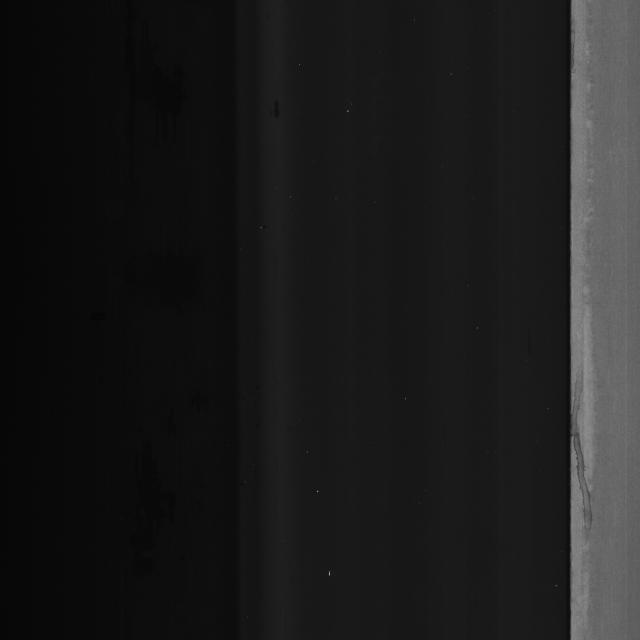water_spot: (572, 371, 614, 545)
